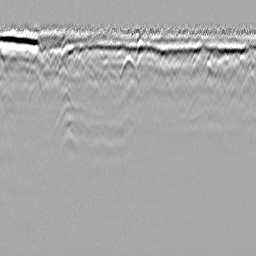cavity: (118, 52, 138, 81)
